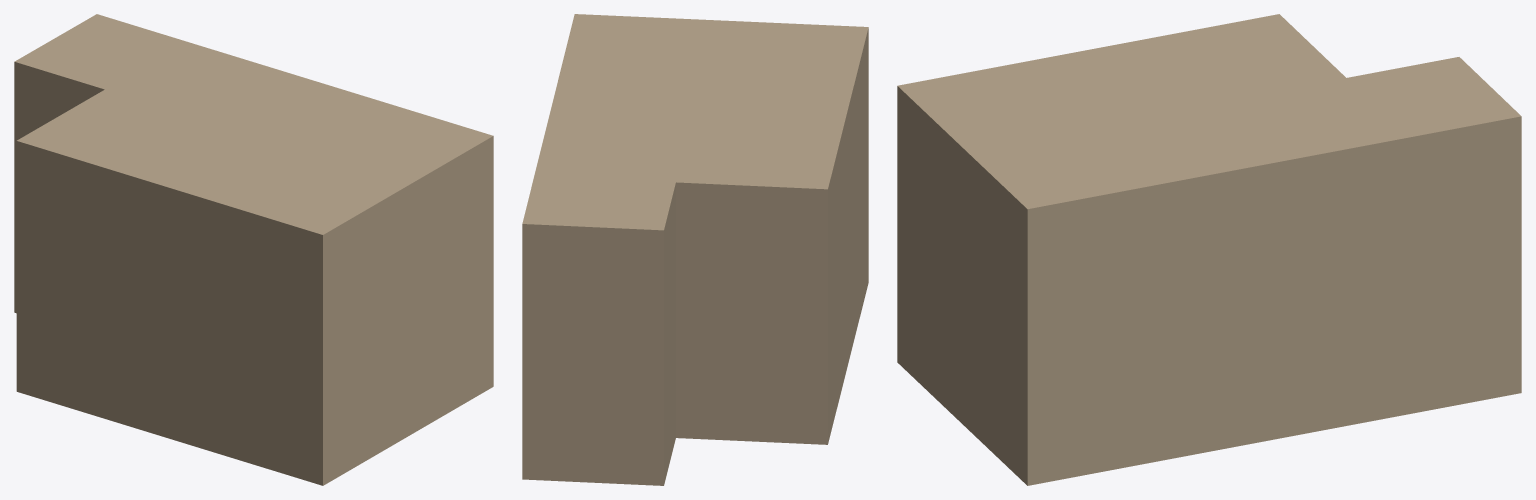
File: bld_106415383.dae
3 renders of one model, left to right at view 1: azimuth 30°, elevation 25°; view 2: azimuth 150°, elevation 25°; view 3: azimuth 270°, elevation 25°, orthographic. The views are drawn at different scales.
Visible parts, largest first — view 1: bld_106415383; view 2: bld_106415383; view 3: bld_106415383.
Boxes of the visible parts, bbox=[...] form: bld_106415383: bbox=[14, 14, 493, 485]; bld_106415383: bbox=[522, 14, 868, 485]; bld_106415383: bbox=[897, 14, 1521, 485].
Size of the model in its own units: 12.11 by 16.36 by 8.
